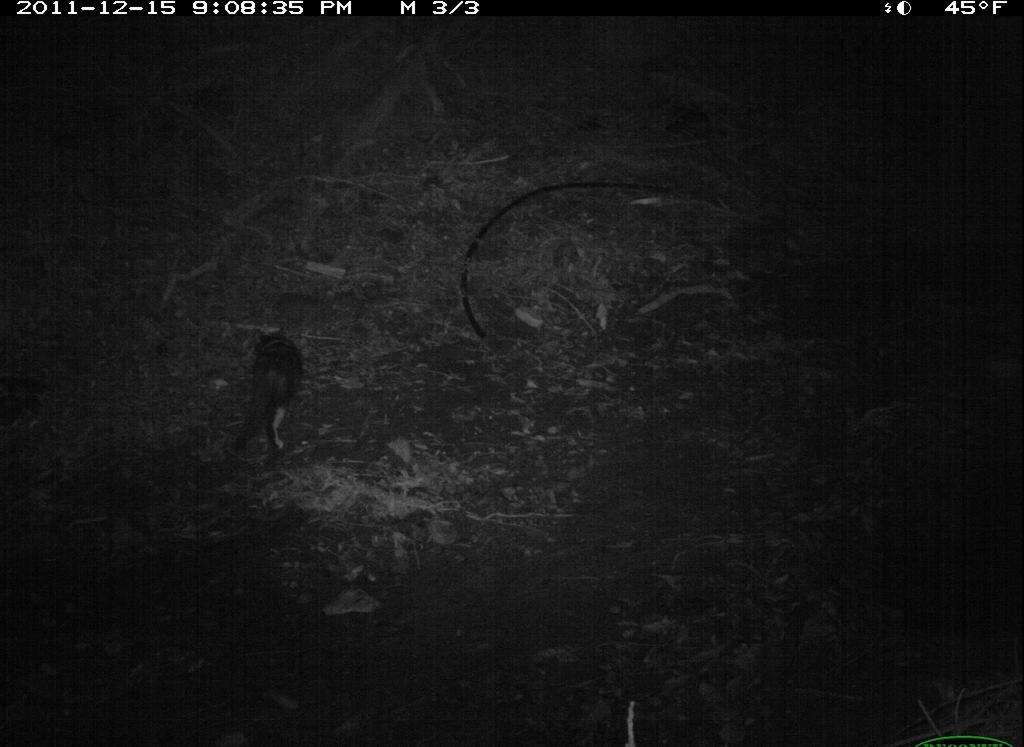cat: (228, 324, 313, 461)
